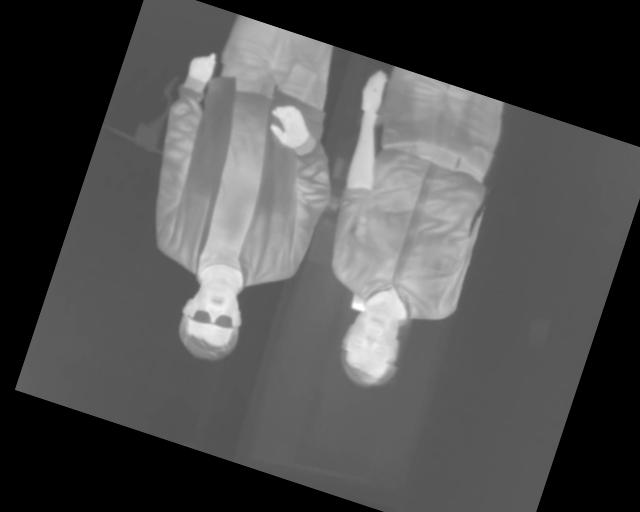face: (167, 267, 254, 369), (329, 294, 413, 395)
